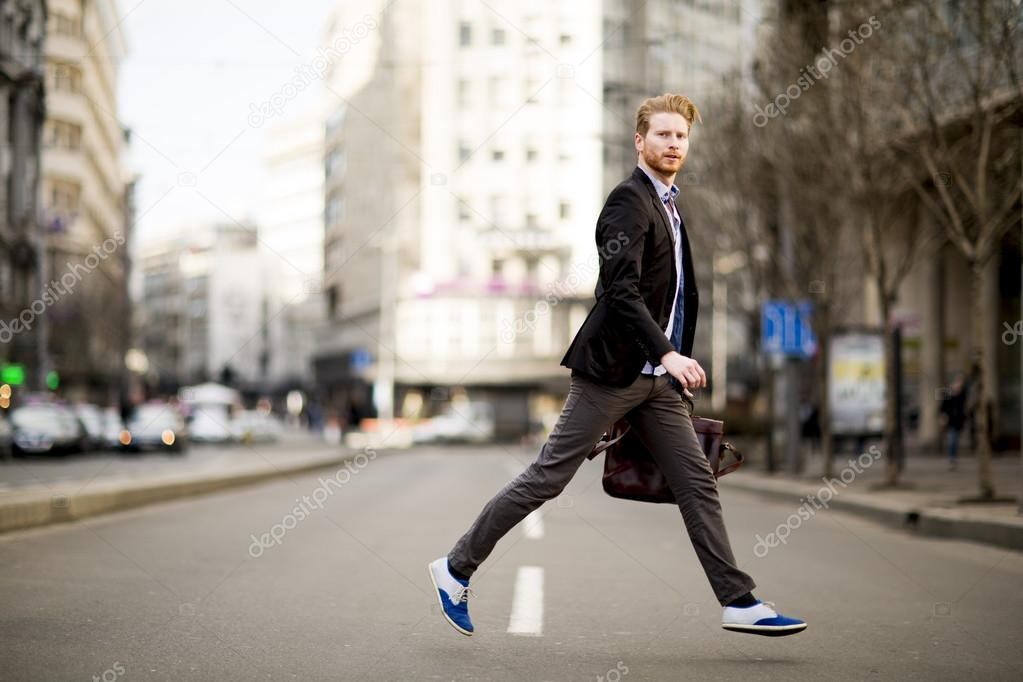person: (423, 71, 810, 643)
